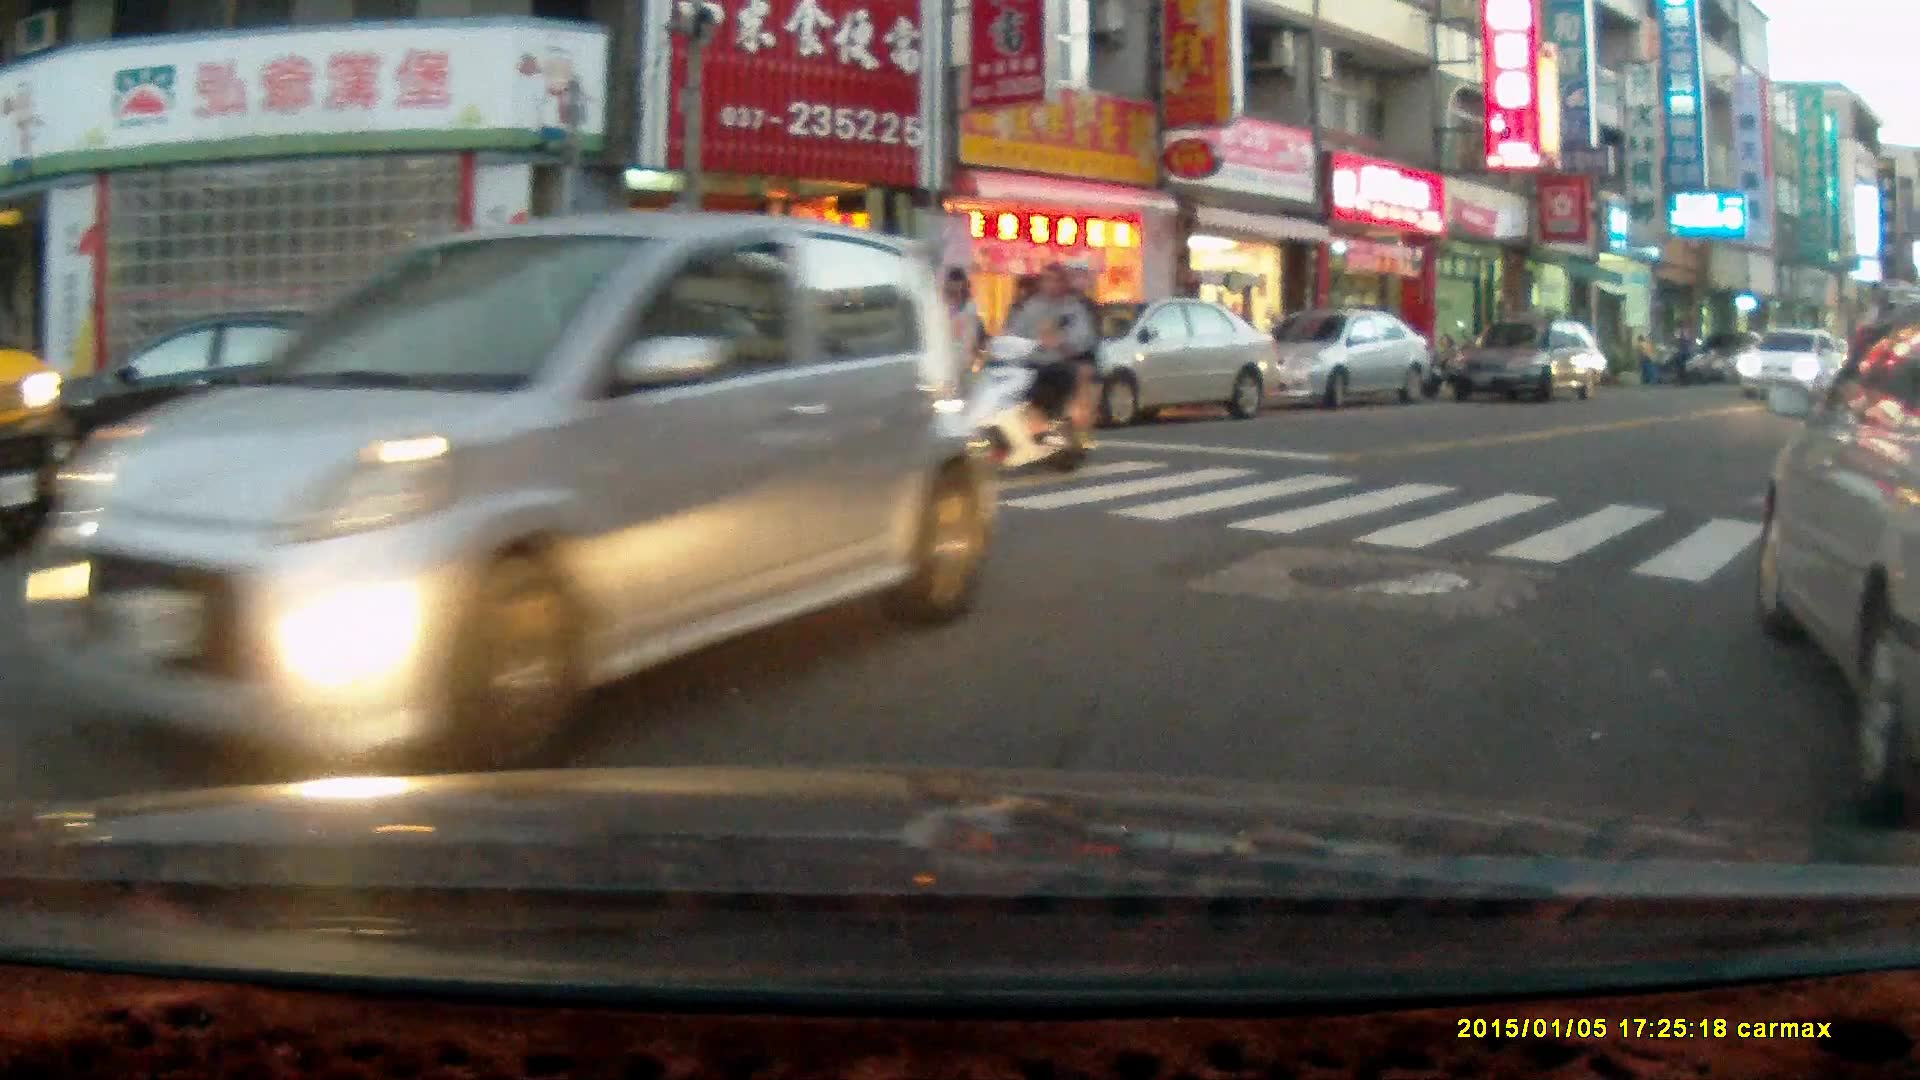pedestrian: (930, 266, 983, 437)
rider: (936, 253, 1103, 480)
vehicle: (17, 209, 983, 765), (1750, 310, 1920, 766), (49, 313, 444, 486), (1016, 297, 1285, 423), (1246, 308, 1437, 404), (1443, 318, 1612, 408), (1730, 324, 1851, 402)
